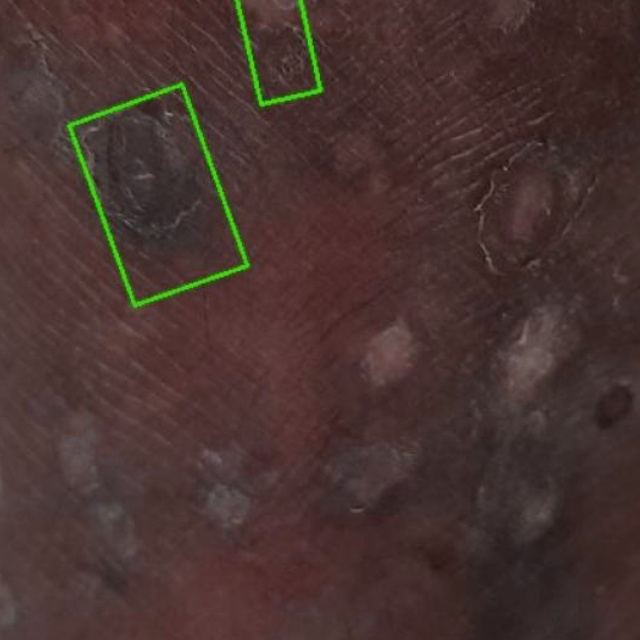Contact Dermatitis: (70, 85, 247, 306), (237, 0, 321, 104)
